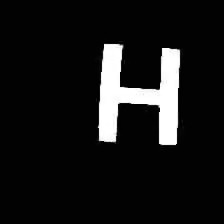LTR_H: (82, 27, 188, 157)
